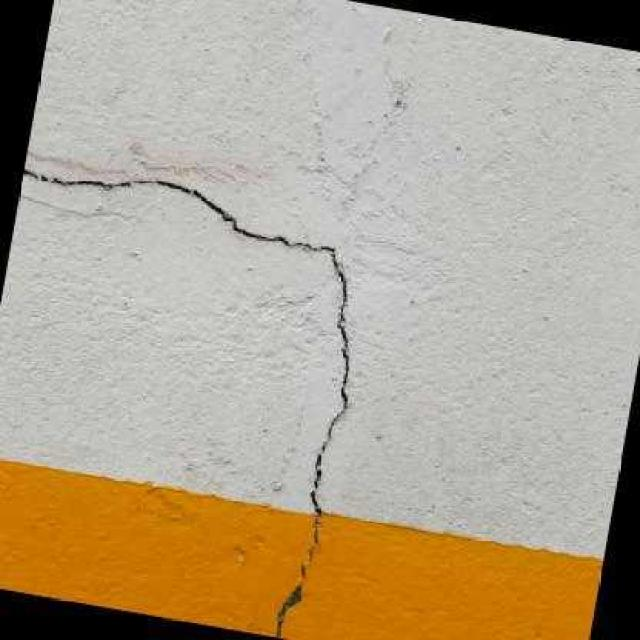D00: (20, 166, 356, 637)
